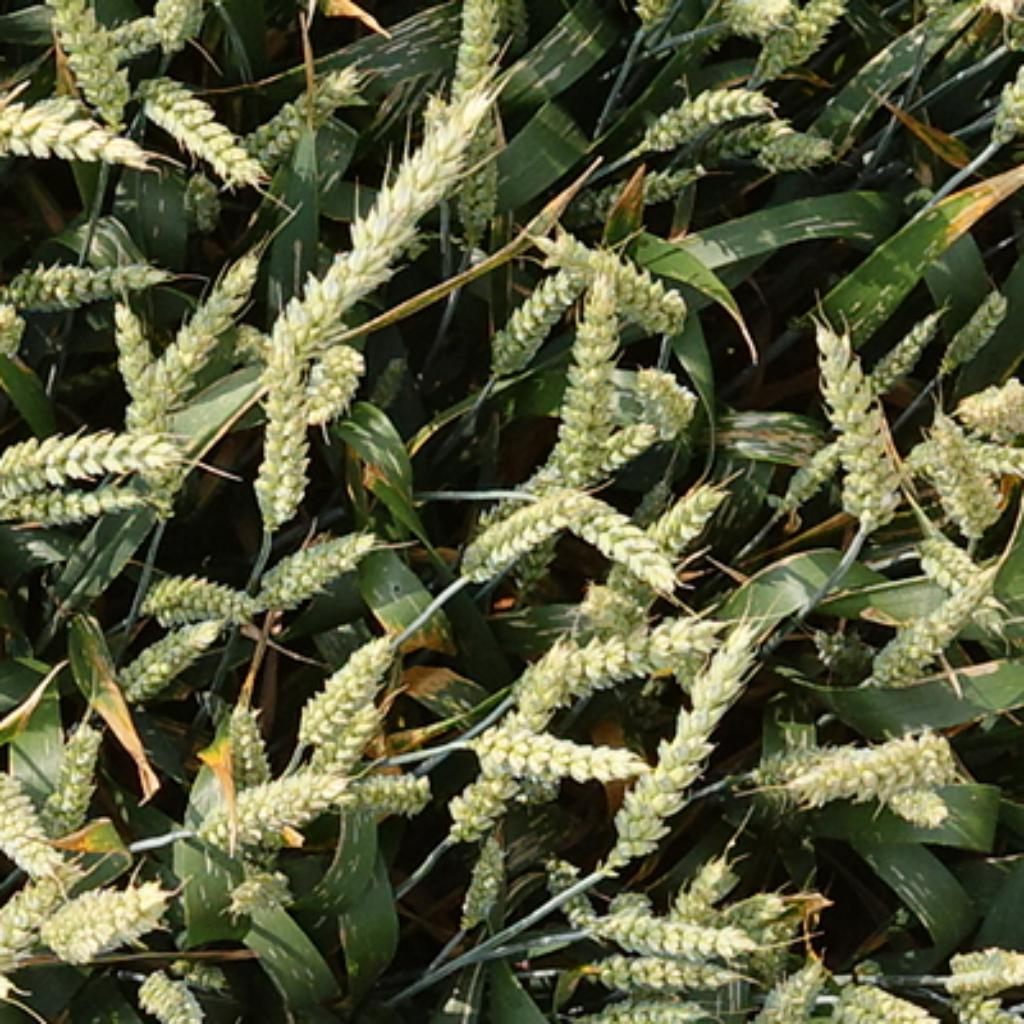0-0: (261, 94, 501, 373), (599, 622, 770, 878), (448, 637, 565, 837), (138, 250, 268, 417), (509, 616, 724, 714), (442, 706, 627, 816), (471, 424, 668, 524), (806, 322, 903, 522), (524, 220, 691, 330), (606, 476, 732, 619), (440, 2, 512, 245), (750, 747, 954, 832), (535, 483, 688, 596), (225, 51, 363, 174), (552, 271, 627, 488), (0, 414, 186, 499), (138, 71, 268, 189), (865, 565, 993, 683), (785, 724, 954, 811), (294, 624, 407, 752), (104, 302, 181, 486), (199, 750, 345, 847), (450, 488, 583, 591), (0, 92, 151, 181), (481, 243, 586, 366), (248, 358, 320, 519), (46, 878, 176, 967), (637, 74, 783, 151), (253, 517, 376, 606), (0, 482, 192, 538), (924, 399, 1000, 537), (112, 609, 225, 698), (586, 911, 775, 962), (46, 5, 138, 107), (0, 248, 140, 312), (35, 724, 112, 834), (0, 768, 74, 880), (563, 163, 716, 217), (130, 560, 261, 622), (302, 698, 399, 780), (834, 977, 1003, 1024), (294, 343, 378, 437), (573, 949, 750, 993), (775, 432, 852, 529), (747, 2, 852, 71), (0, 864, 61, 978), (936, 279, 1011, 368), (739, 957, 834, 1024), (865, 304, 939, 389), (903, 430, 1024, 478), (668, 852, 752, 921), (348, 765, 442, 826), (209, 693, 271, 783), (624, 353, 696, 430), (908, 529, 990, 596), (455, 837, 509, 936), (757, 120, 852, 176), (133, 957, 209, 1024), (808, 614, 875, 680), (573, 993, 714, 1024), (942, 942, 1024, 995), (166, 944, 245, 999), (693, 117, 791, 161), (542, 857, 599, 931), (980, 61, 1024, 153), (952, 368, 1018, 427), (225, 857, 294, 913), (716, 885, 798, 931), (166, 176, 222, 238), (145, 2, 207, 56), (99, 12, 166, 61), (703, 0, 792, 31), (0, 297, 29, 374), (611, 888, 660, 919)
